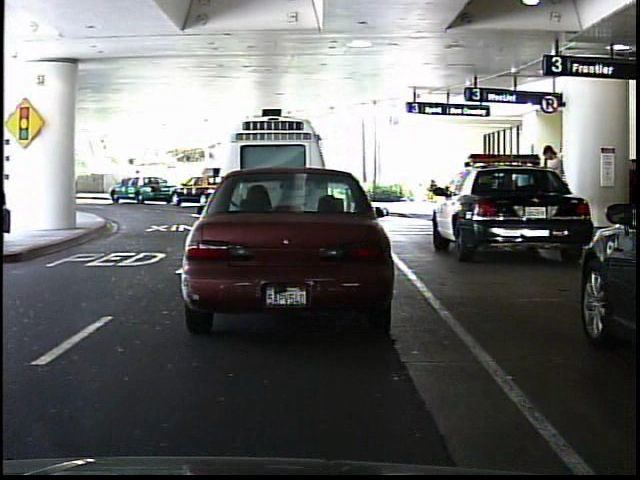person: (539, 139, 571, 239), (129, 166, 148, 198)
